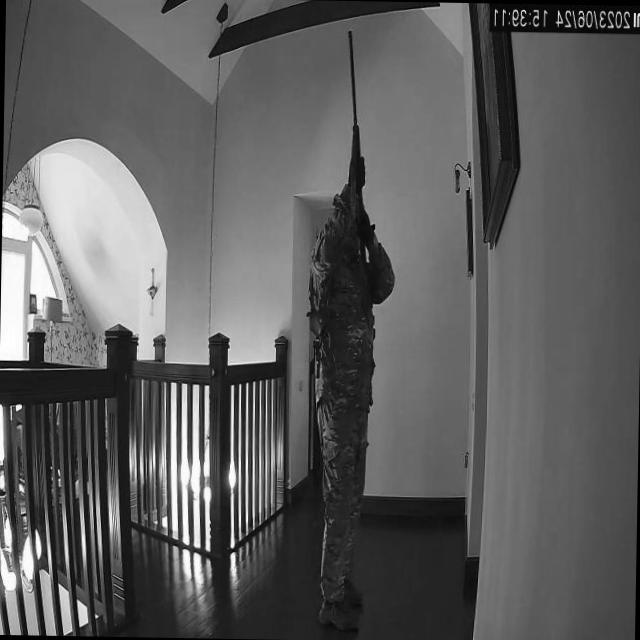gun: (338, 28, 374, 315)
person with a gun: (300, 29, 399, 634)
